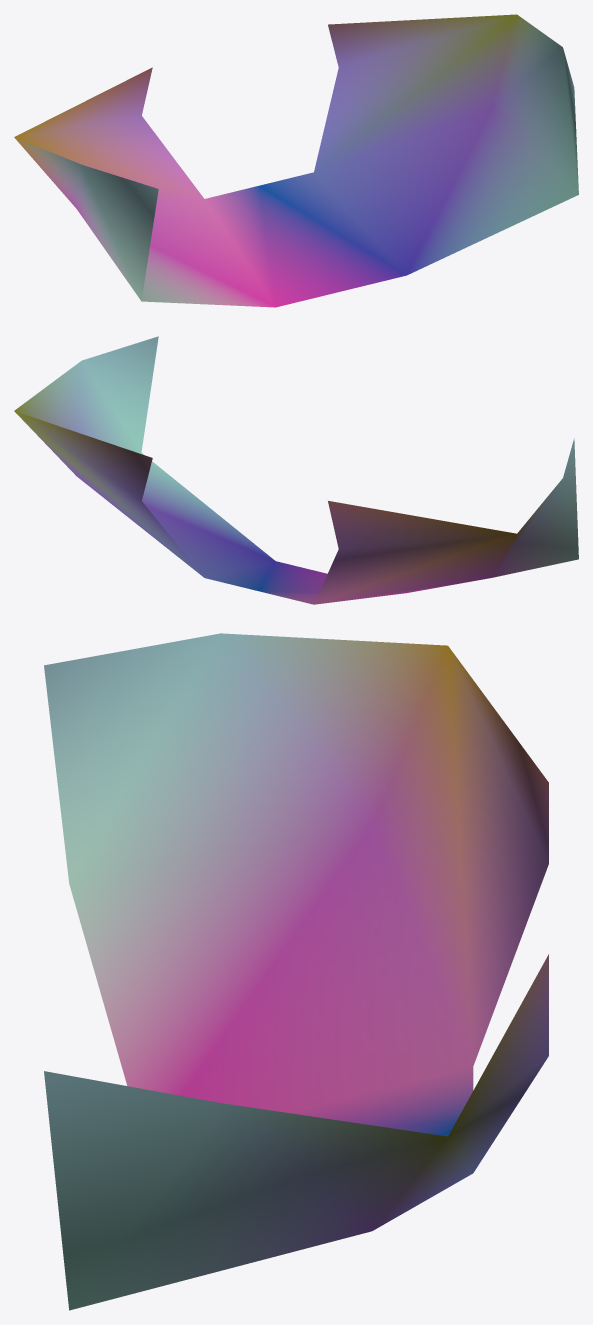
3 renders of one model, top to bottom at view 1: azimuth 30°, elevation 25°; view 2: azimuth 150°, elevation 25°; view 3: azimuth 270°, elevation 25°, orthographic. The views are drawn at different scales.
Visible parts, largest first — view 1: part; view 2: part; view 3: part.
Boxes of the visible parts, left/top/right/bottom form: part: left=14, top=14, right=578, bottom=307; part: left=14, top=336, right=578, bottom=604; part: left=44, top=633, right=548, bottom=1310.
Bounding box in the file's own units: 46 × 15 × 20.
